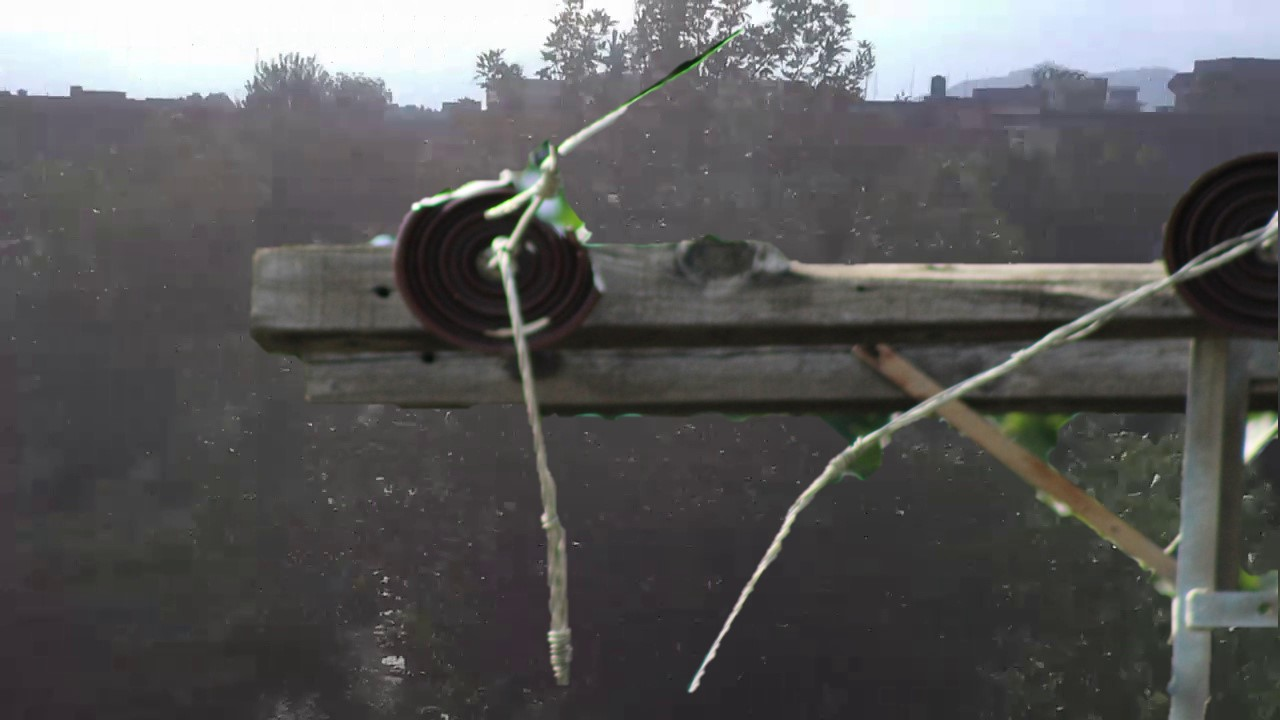defect_disc: (389, 166, 612, 368)
